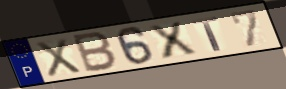6: (115, 25, 155, 66)
7: (228, 8, 260, 49)
B: (71, 30, 118, 74)
T: (190, 15, 223, 52)
X: (145, 20, 200, 61), (33, 37, 84, 79)
